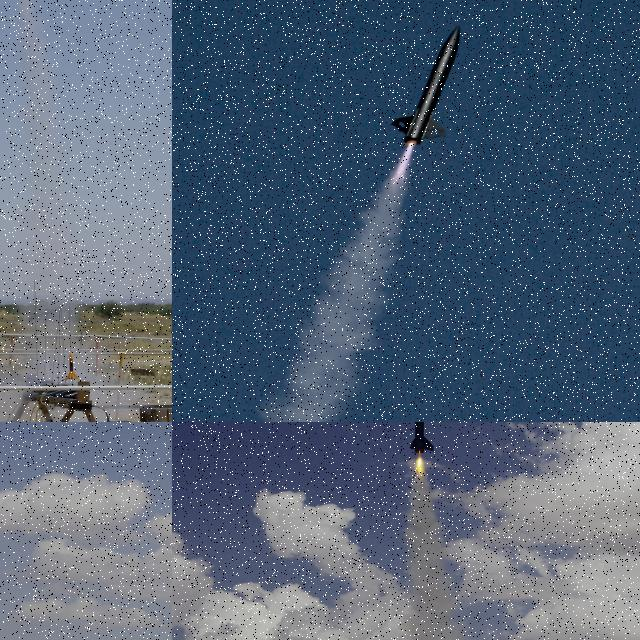Rocket: (387, 25, 462, 147), (410, 422, 434, 454), (66, 353, 79, 380)
